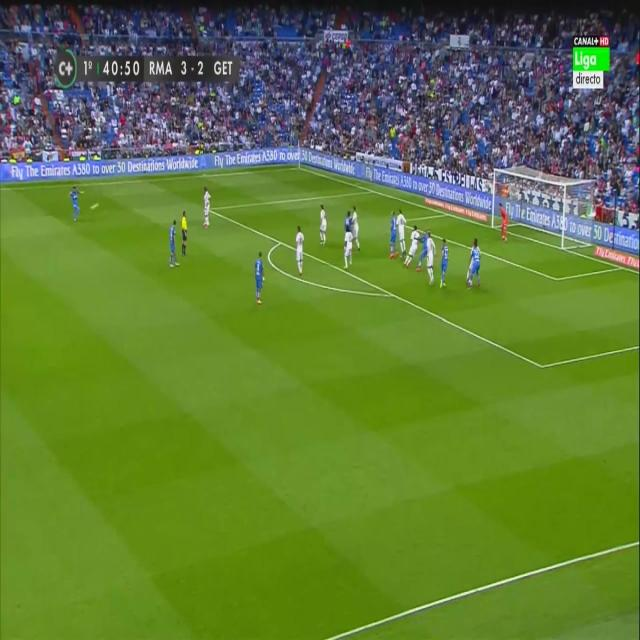Ball: (87, 199, 100, 214)
Goalkeeper: (496, 201, 514, 244)
Player: (253, 247, 268, 304), (401, 225, 420, 270), (438, 235, 452, 293), (467, 242, 483, 289), (167, 219, 180, 273), (396, 205, 409, 259), (68, 182, 84, 225), (425, 229, 437, 286), (316, 202, 330, 249), (341, 226, 354, 276), (199, 184, 213, 230), (351, 204, 364, 252), (294, 226, 306, 277), (387, 208, 398, 262), (414, 232, 428, 270)
Referee: (180, 210, 190, 260)
